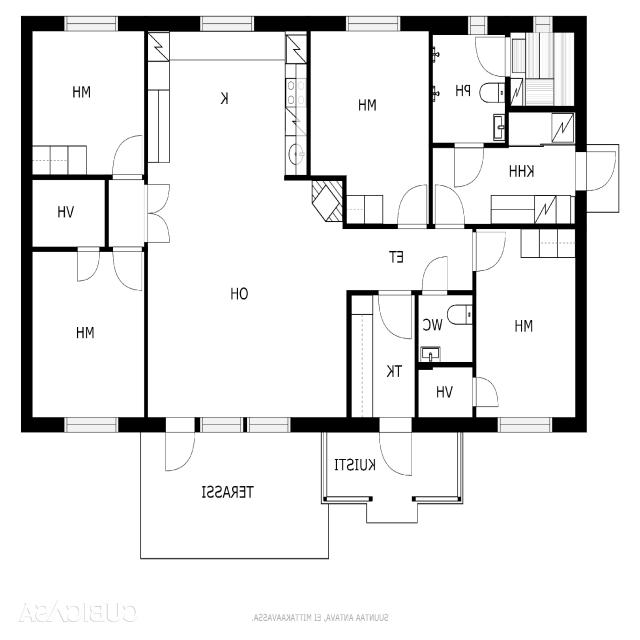door: (431, 29, 509, 148), (374, 416, 416, 479), (574, 141, 620, 196), (158, 416, 198, 478), (142, 176, 176, 246), (106, 128, 148, 182), (469, 224, 511, 276), (375, 288, 414, 344), (394, 179, 430, 233), (472, 30, 512, 78), (111, 242, 146, 294), (433, 182, 467, 234), (451, 140, 486, 190), (418, 250, 452, 300), (73, 242, 102, 286), (470, 374, 502, 411)
window: (199, 411, 292, 438), (57, 410, 126, 439), (58, 8, 126, 36), (196, 9, 259, 34), (492, 412, 560, 435), (341, 11, 405, 35), (240, 412, 294, 434), (465, 12, 491, 38), (528, 13, 558, 34)
zone: (142, 15, 332, 422), (138, 426, 329, 563), (309, 24, 432, 225), (473, 226, 582, 422), (29, 248, 148, 420), (29, 25, 147, 177), (493, 105, 581, 226), (349, 291, 417, 426), (430, 31, 508, 148), (506, 29, 576, 110), (28, 177, 108, 247), (417, 292, 475, 365), (416, 363, 476, 422)
